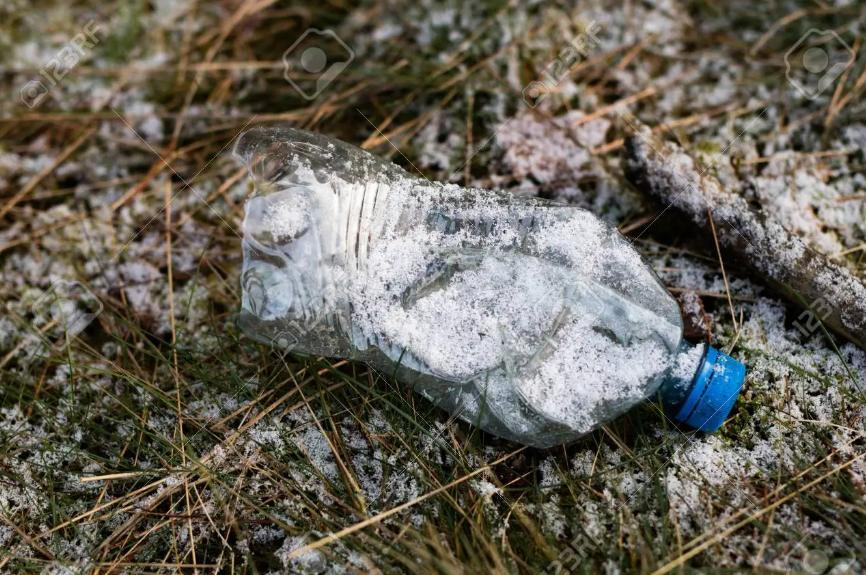bottle: (222, 98, 764, 479)
